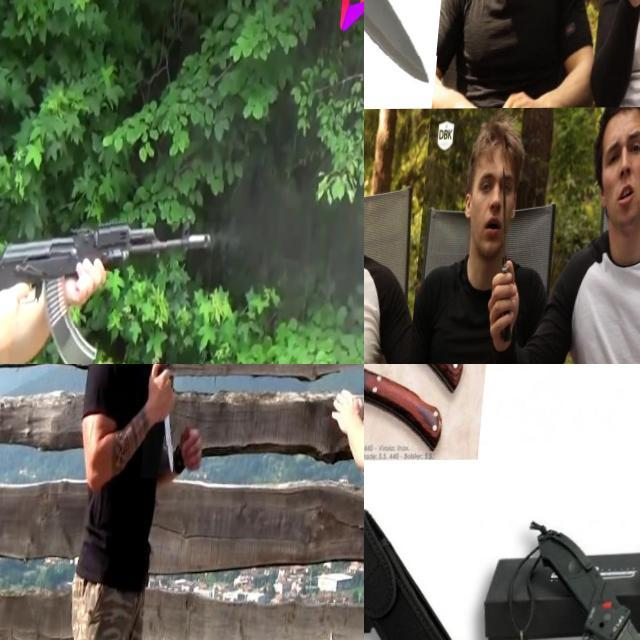-: (364, 0, 464, 126), (492, 157, 540, 350), (147, 364, 189, 478), (364, 364, 432, 397), (364, 364, 430, 397), (364, 364, 421, 394), (364, 176, 379, 287), (602, 0, 640, 34)
gun-knife-thesis - v11 Yolov5 augmented: (0, 222, 220, 364)
